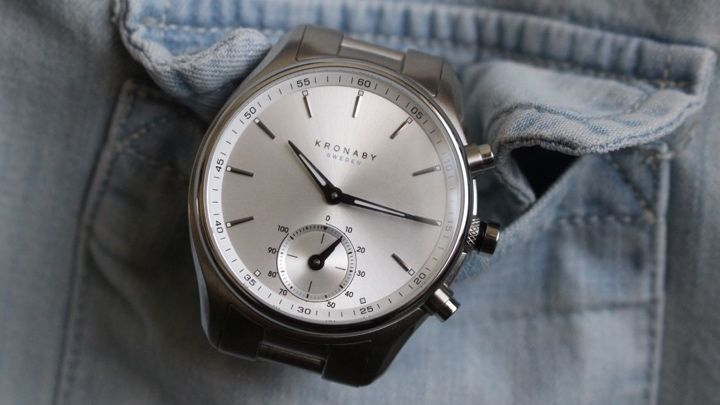clock: (187, 56, 481, 341)
